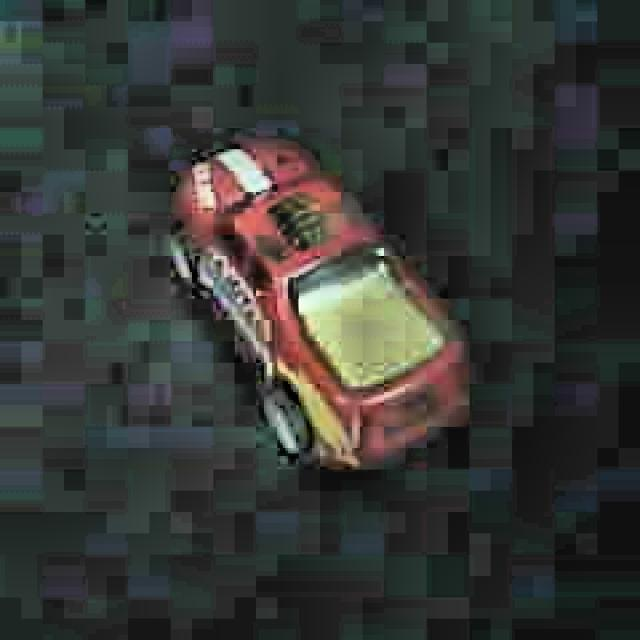car: (158, 127, 484, 493)
